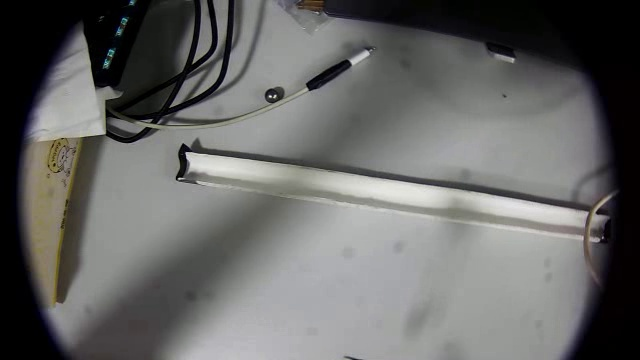gangzhu: (264, 85, 283, 103)
